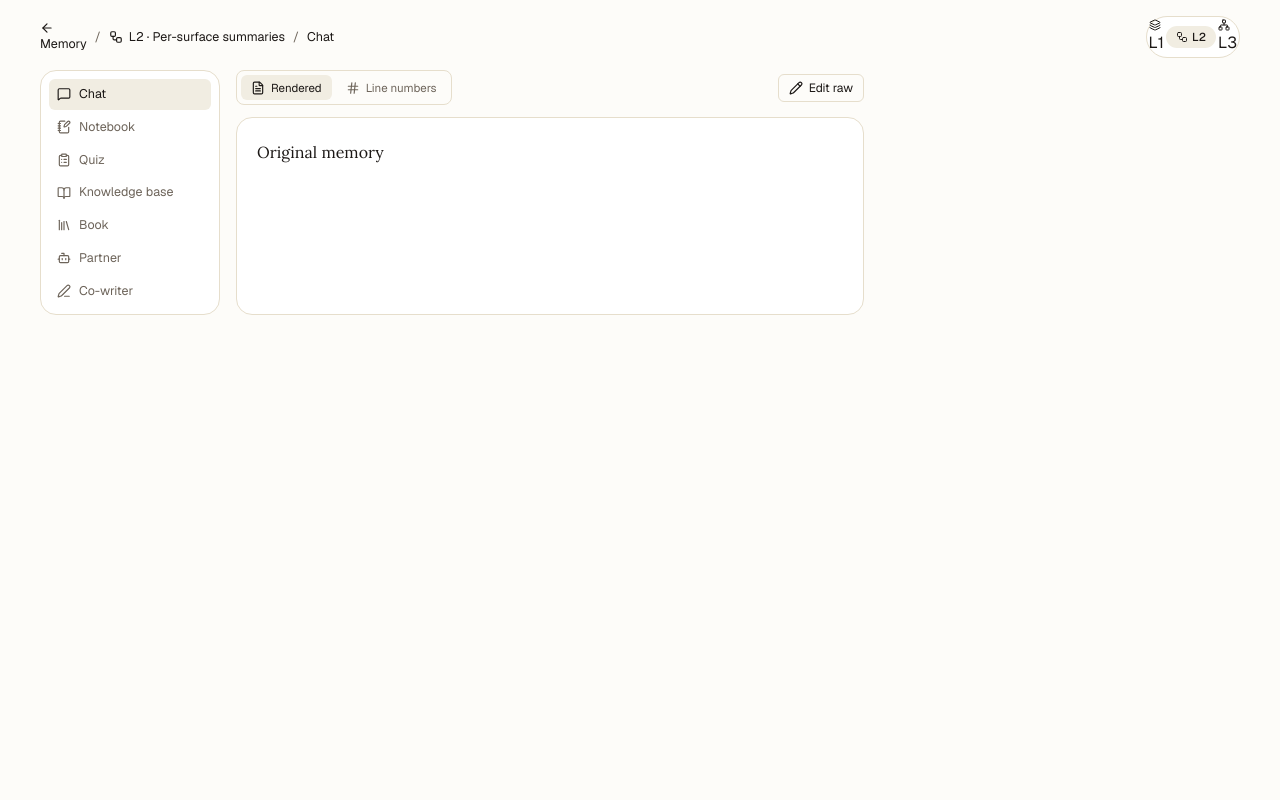
updates the preview and exits editing after a successful save
Check: the text "Original memory" is shown, box [257, 142, 384, 162]
Click the button "Edit raw" at (821, 88), box [778, 74, 864, 102]
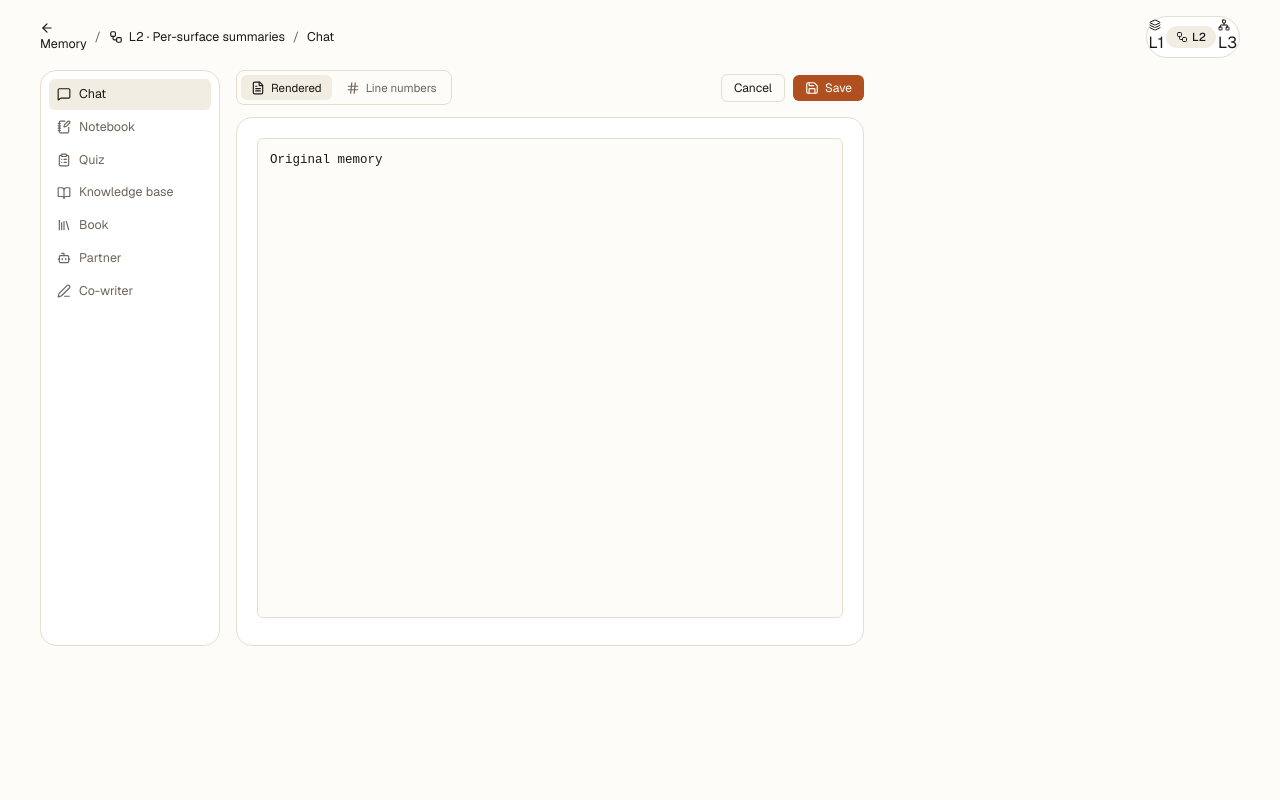
Replace the text in the text box with "Updated memory" at (550, 378), box [257, 138, 843, 618]
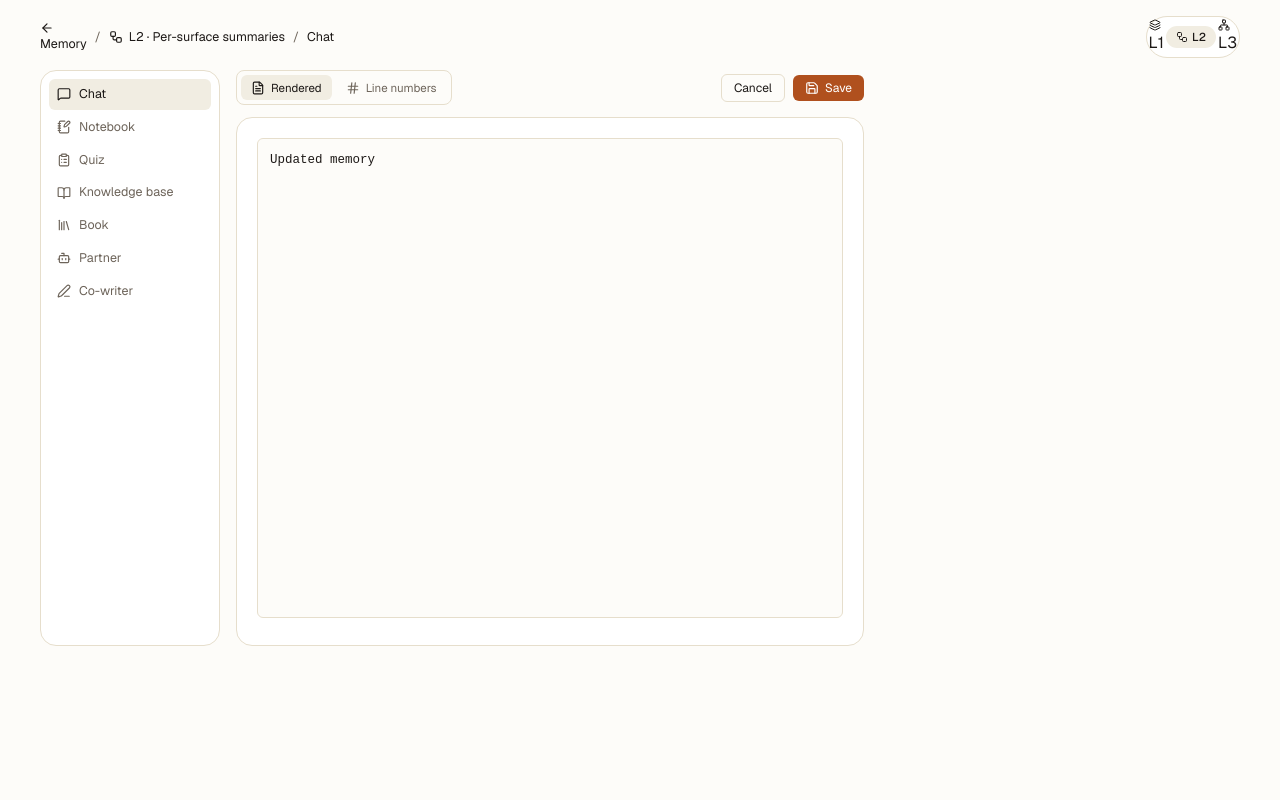
Click the button "Save" at (828, 88), box [793, 75, 864, 101]
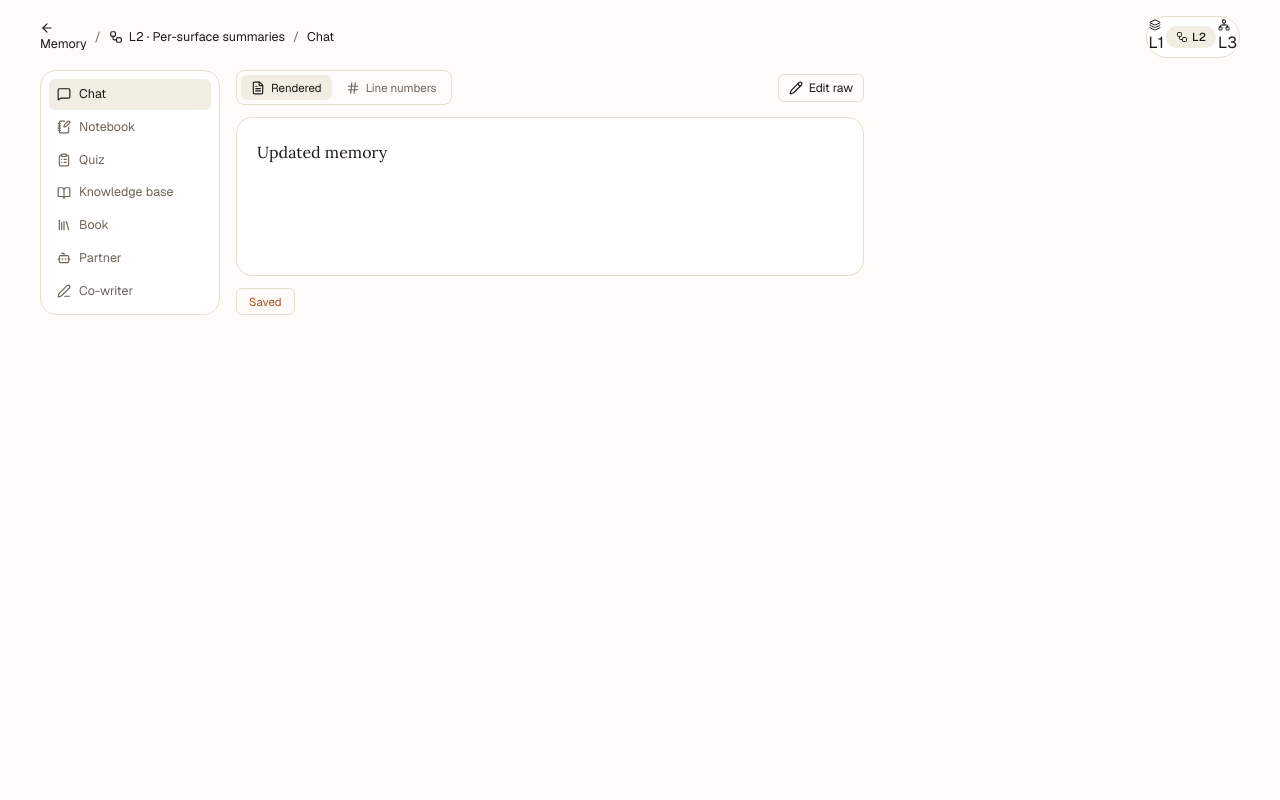
Check: the text "Saved" is shown, box [236, 288, 295, 315]
Check: the text "Updated memory" is shown, box [257, 142, 387, 162]
